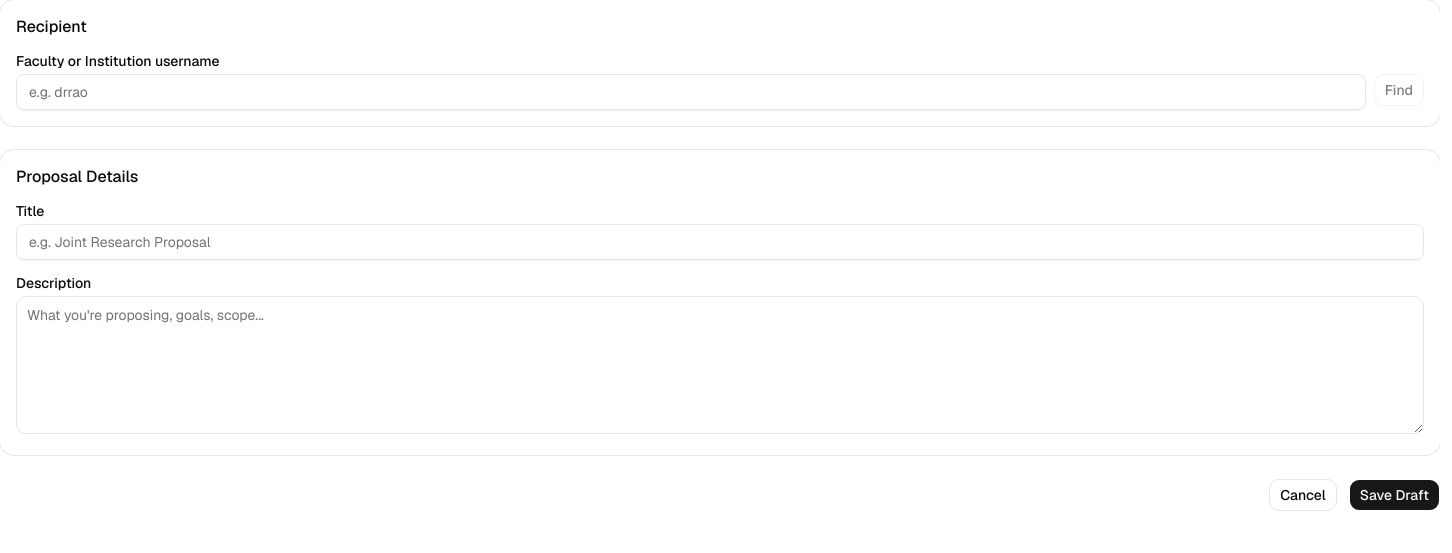
Test: CollaborationForm › blocks submit in create mode until a recipient is resolved
Type "Proposal" into the field labelled "Title" at (720, 242), box x1=16 y1=224 x2=1424 y2=260
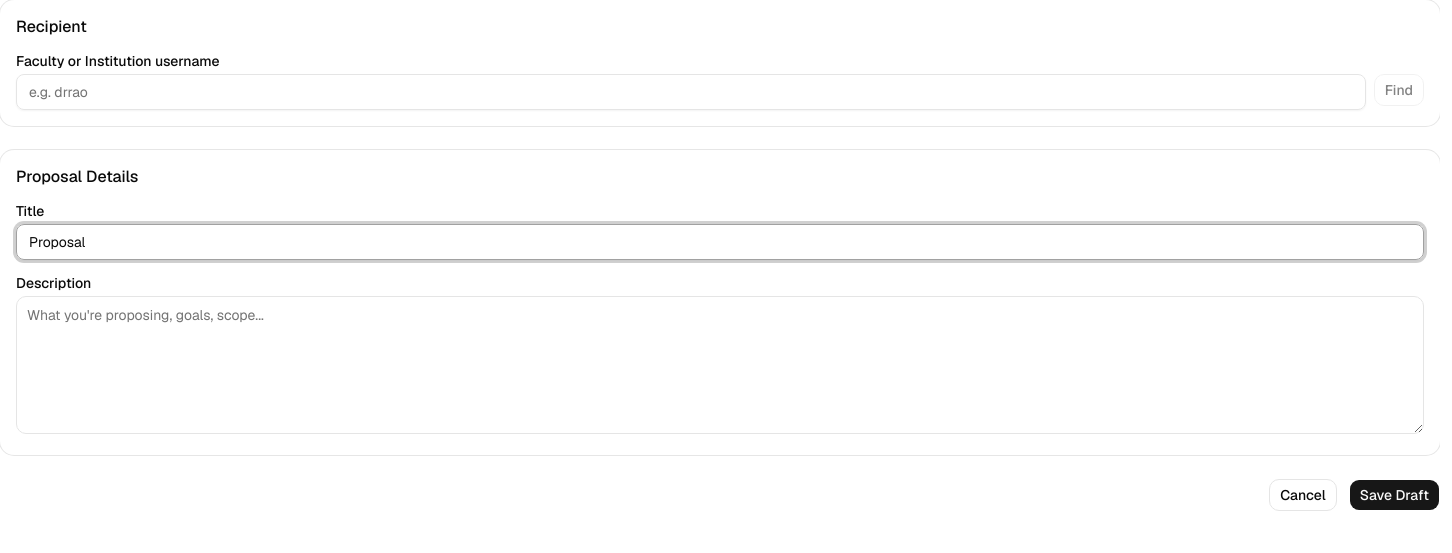
Type "Details." into the text box labelled "Description" at (720, 365), box x1=16 y1=296 x2=1424 y2=434
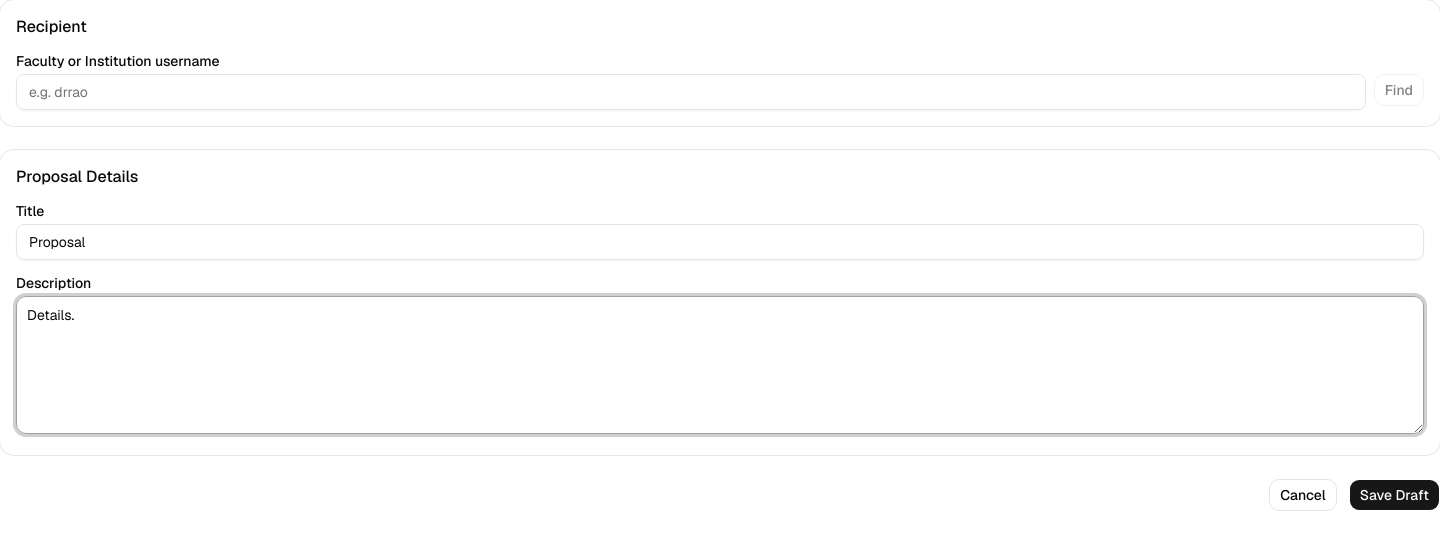
Click the button "Save Draft" at (1394, 495), box x1=1349 y1=479 x2=1440 y2=511
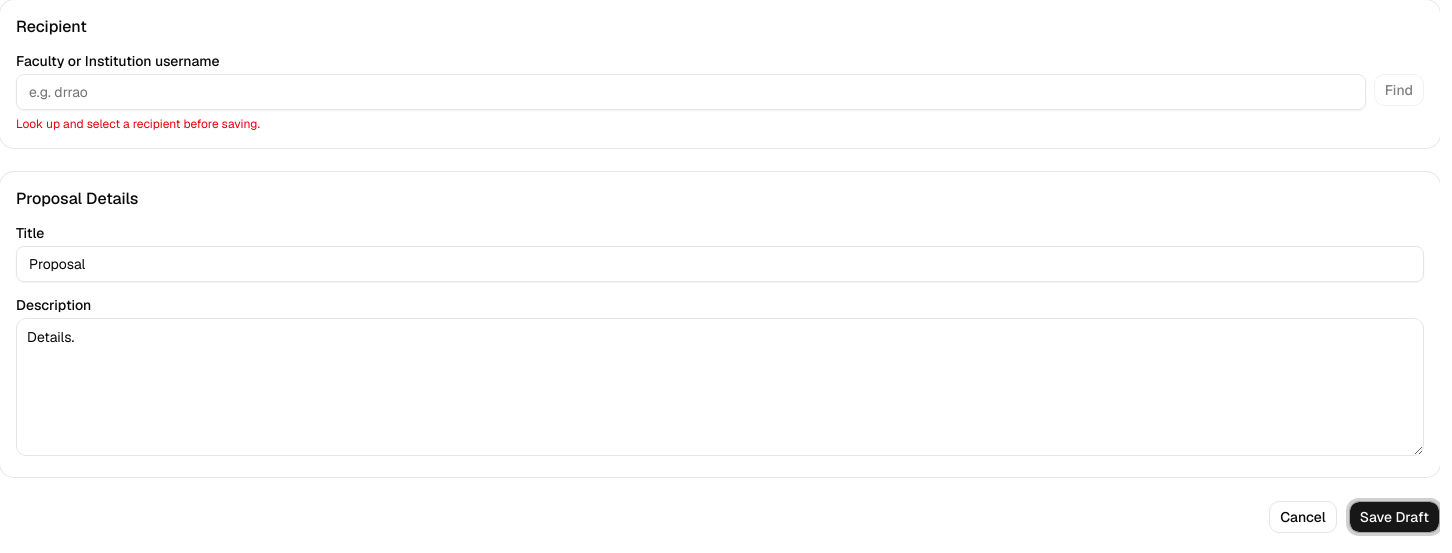
Expected: the text "Look up and select a recipient before saving." is shown, x1=16 y1=116 x2=260 y2=132
